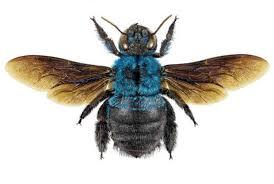Xylocopa: (12, 11, 266, 167)
